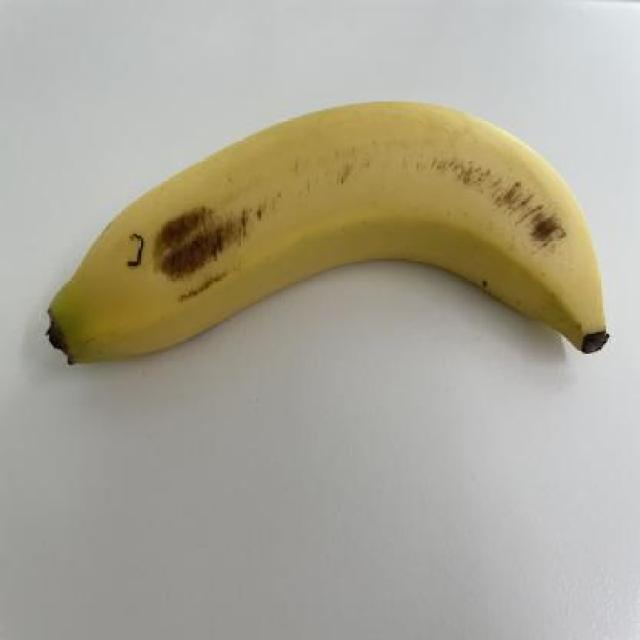banana: (38, 95, 612, 372)
